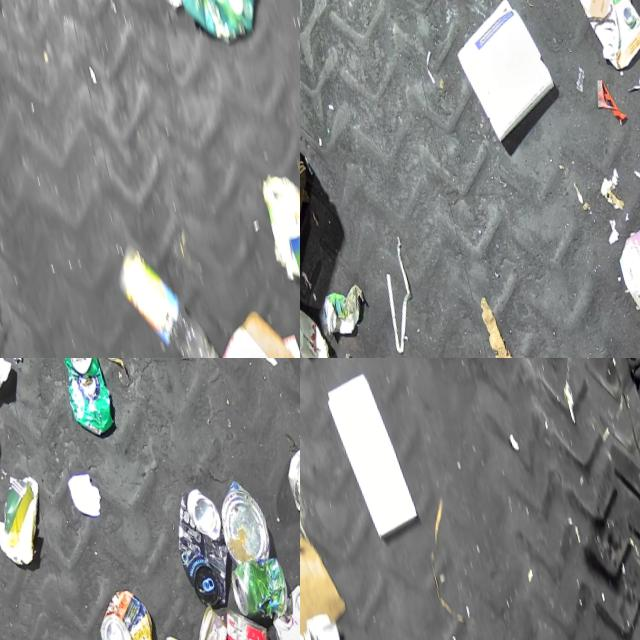can: (164, 474, 242, 605), (212, 465, 276, 560), (224, 543, 292, 619), (54, 358, 118, 436), (90, 575, 161, 640), (202, 591, 289, 640), (263, 569, 300, 640), (300, 295, 336, 358), (187, 593, 234, 640), (278, 423, 300, 507), (162, 618, 224, 640)
non_white_jug: (605, 163, 640, 336), (556, 0, 640, 68)
plastic_bottle: (109, 219, 225, 358)
